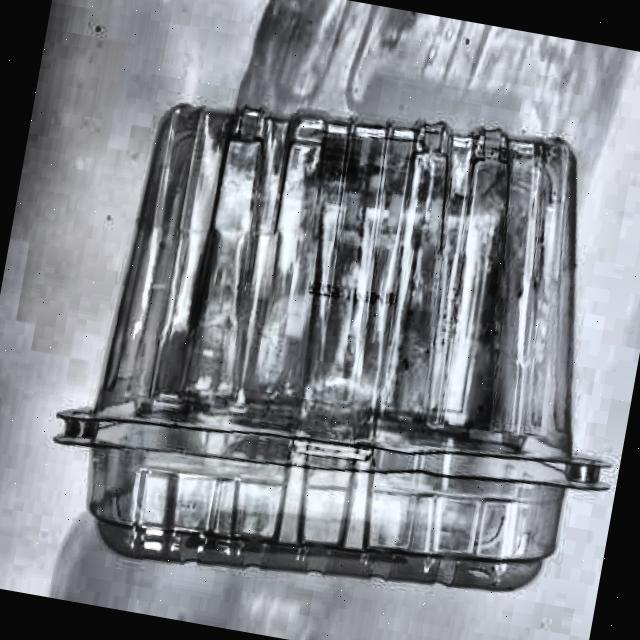plastic: (32, 60, 640, 630)
